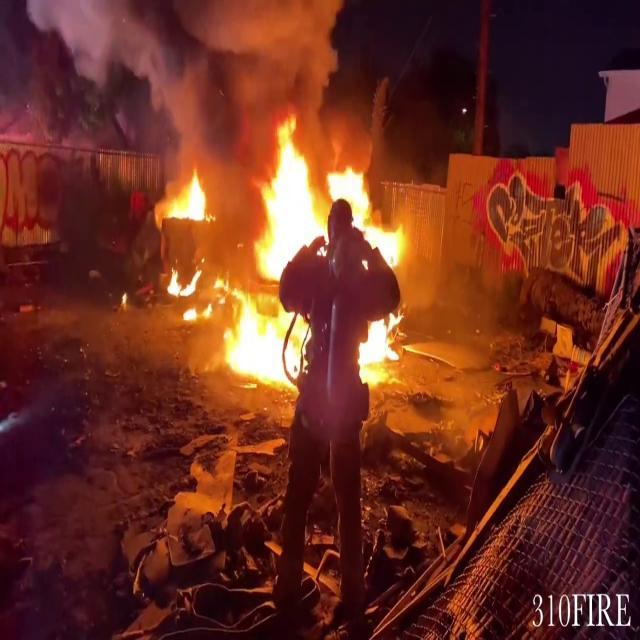Fire: (250, 107, 406, 287), (204, 282, 312, 391), (351, 306, 407, 386), (162, 166, 213, 227), (164, 261, 204, 310)
Smoke: (1, 0, 345, 163)
